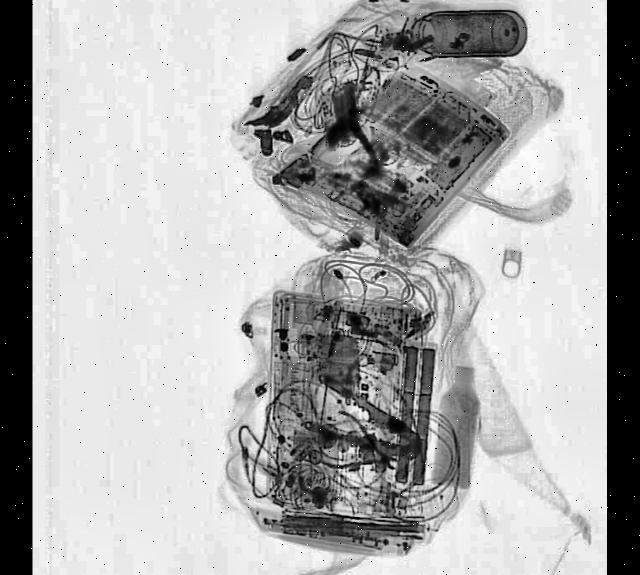Pliers: (301, 373, 428, 480)
